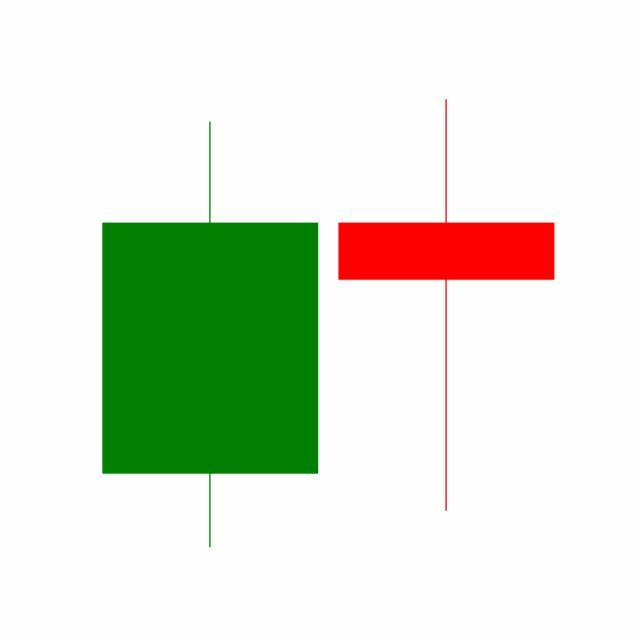Spinning Top: (328, 96, 566, 517)
